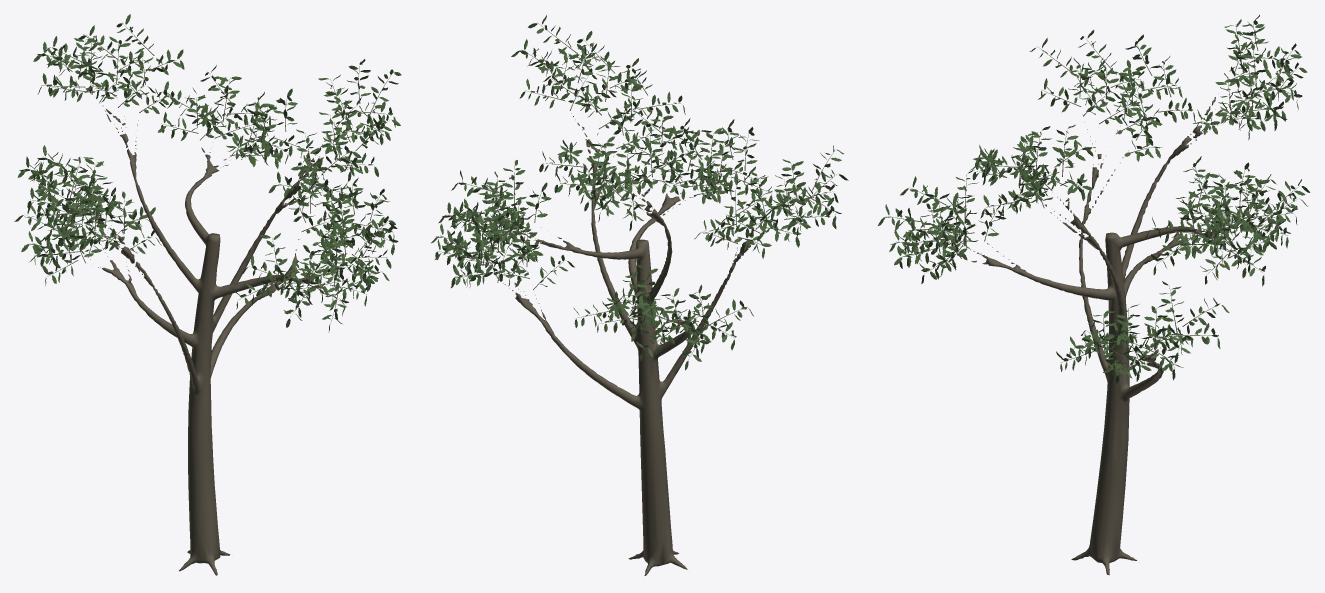
The model's file is CheneVert_0_Niveau0.fbx.
The picture shows the model from 3 angles, left to right: view 1: azimuth 30°, elevation 25°; view 2: azimuth 150°, elevation 25°; view 3: azimuth 270°, elevation 25°; orthographic projection. The views are drawn at different scales.
Parts seen in each view (by area): view 1: CheneVert_0_Niveau0_Jeu; view 2: CheneVert_0_Niveau0_Jeu; view 3: CheneVert_0_Niveau0_Jeu.
Boxes of the visible parts, box(x1,y1,x2,y2) form: CheneVert_0_Niveau0_Jeu: box(14, 14, 401, 575); CheneVert_0_Niveau0_Jeu: box(431, 15, 848, 575); CheneVert_0_Niveau0_Jeu: box(878, 14, 1309, 575).
Size of the model in its own units: 299 by 374 by 287.
